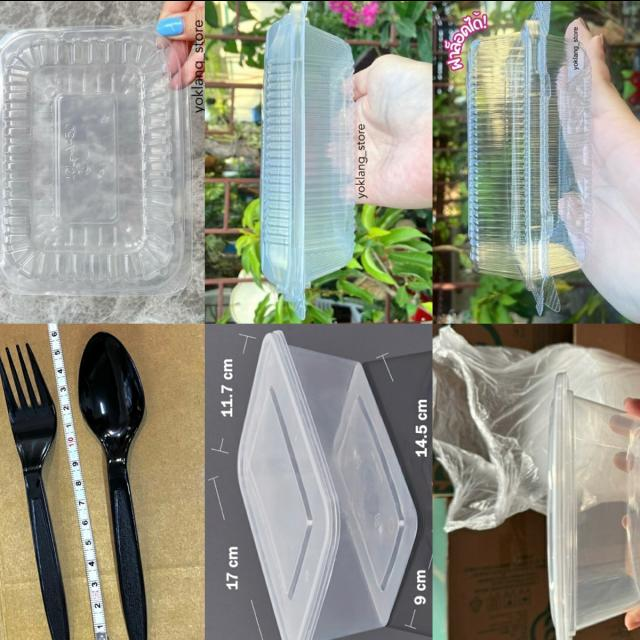plastik: (237, 329, 417, 640), (0, 26, 193, 294), (433, 326, 640, 531), (467, 0, 592, 312), (261, 0, 355, 317), (547, 372, 640, 640), (78, 330, 146, 640), (0, 342, 70, 640)
